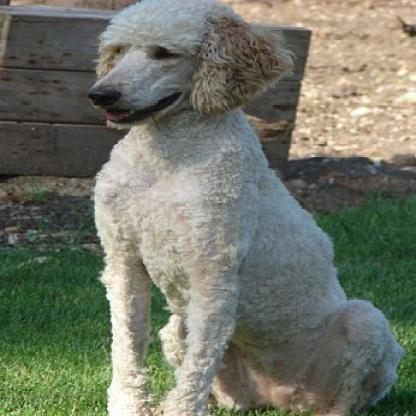standard_poodle: (78, 0, 408, 413)
